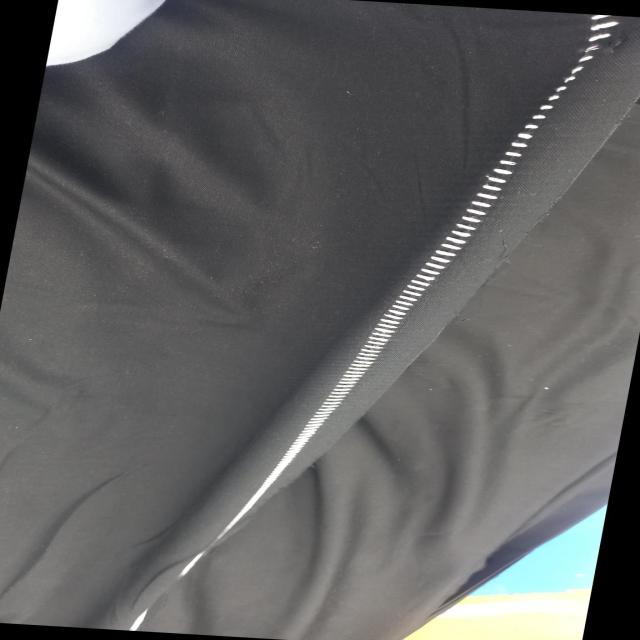gray stitch: (382, 5, 619, 307), (267, 290, 423, 498), (120, 482, 268, 634)
